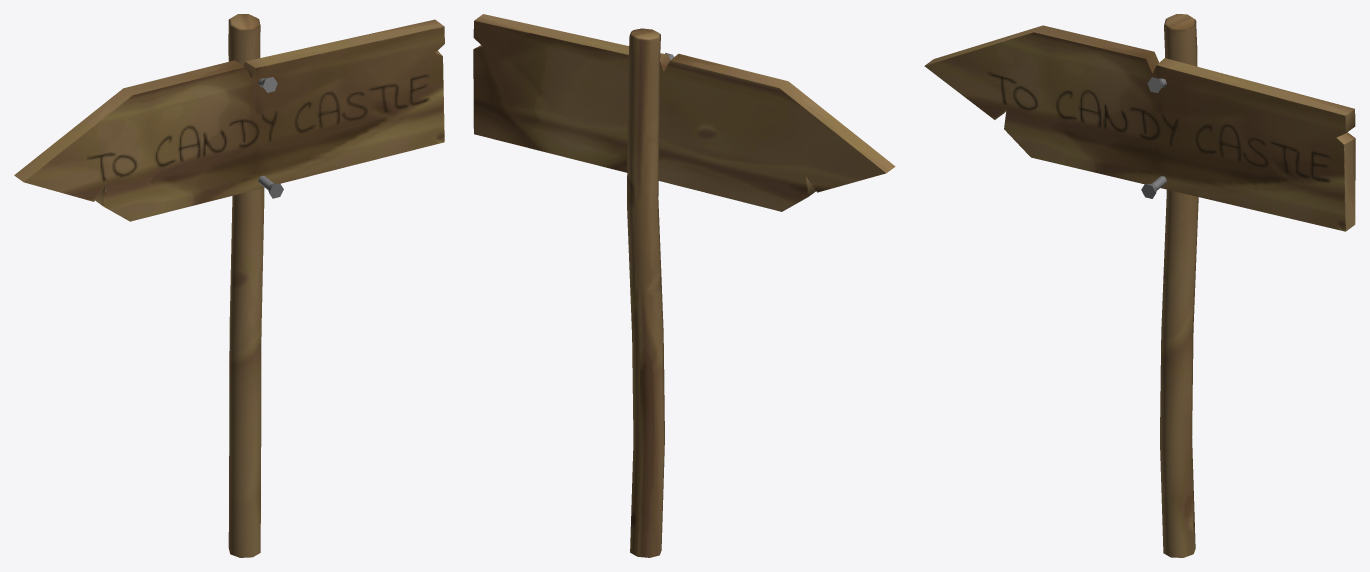
Rendered from SignToCandyCastle.fbx.
3 renders of one model, left to right at view 1: azimuth 30°, elevation 25°; view 2: azimuth 150°, elevation 25°; view 3: azimuth 330°, elevation 25°, orthographic. The views are drawn at different scales.
Visible parts, largest first — view 1: SignToCandyCastle; view 2: SignToCandyCastle; view 3: SignToCandyCastle.
Part boxes in pixels (<box>): SignToCandyCastle: <box>14,14,444,557</box>; SignToCandyCastle: <box>473,14,895,557</box>; SignToCandyCastle: <box>924,14,1355,557</box>.
Size of the model in its own units: 73.25 by 88.23 by 12.28.
